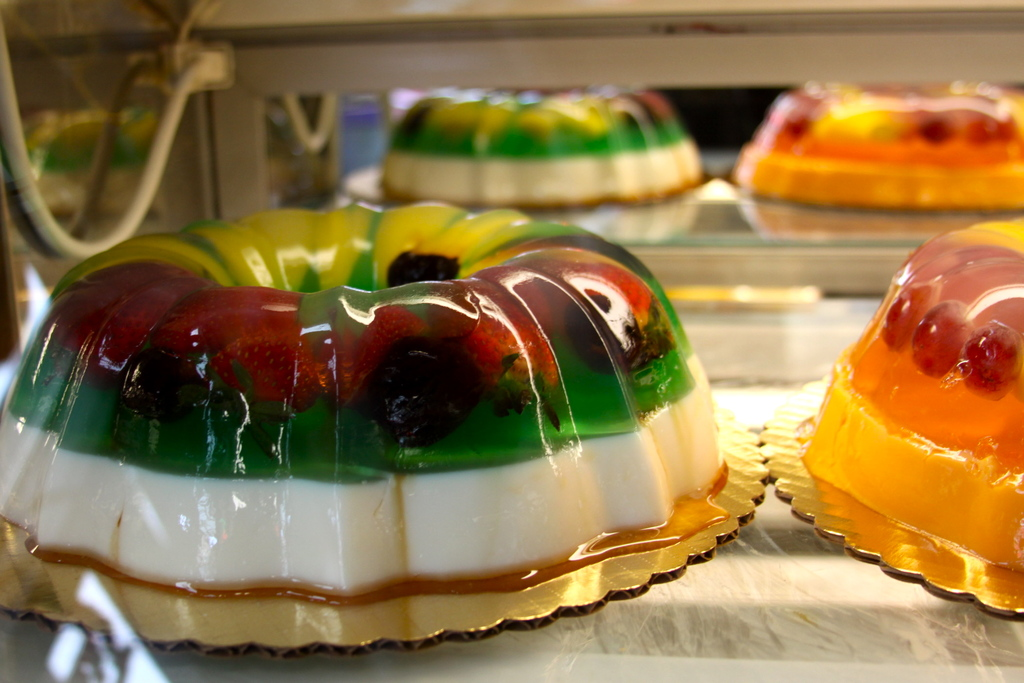person: (30, 117, 148, 223)
